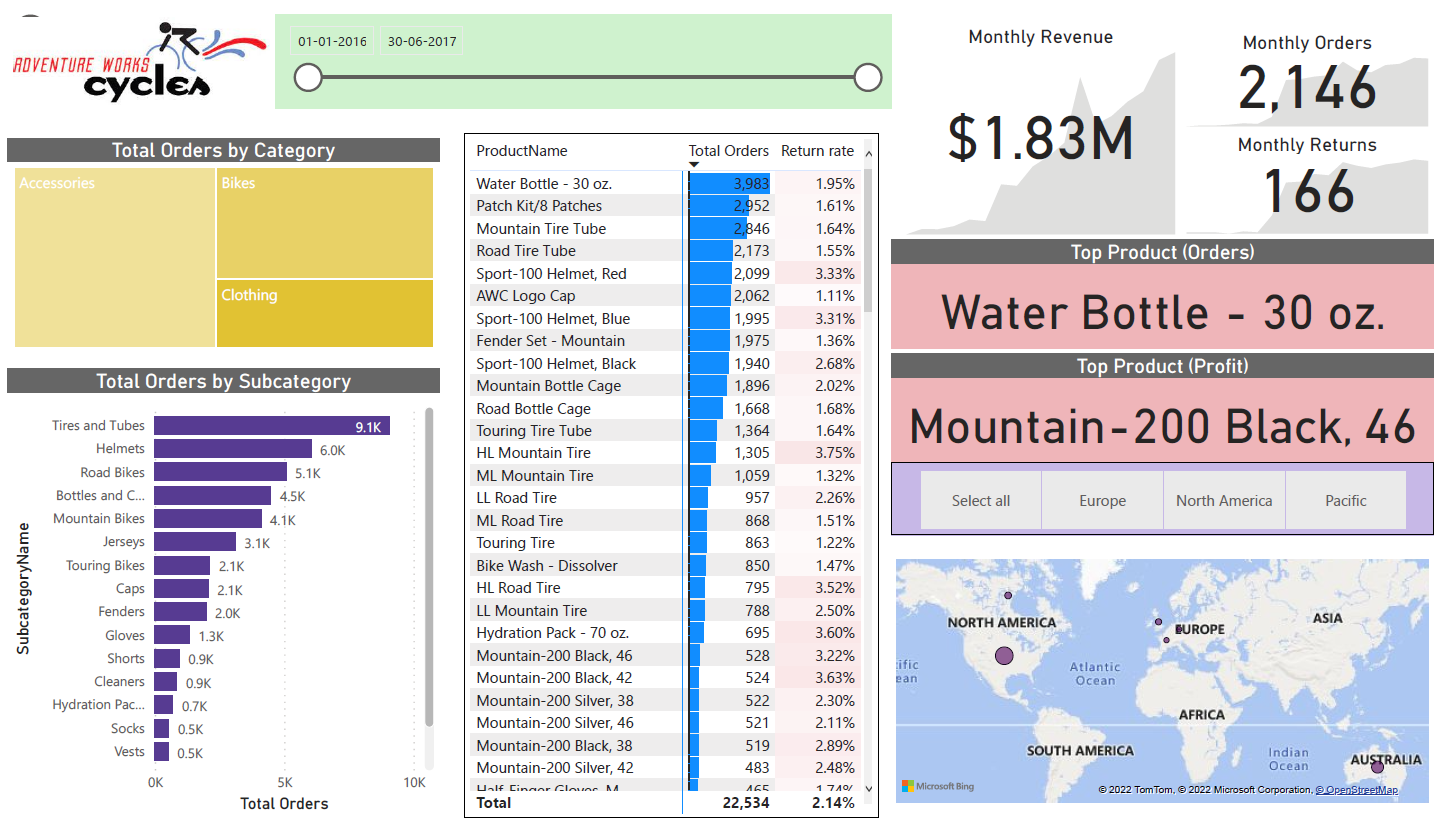

The page's visual inventory and layout, read from the dashboard file:
{"tool":"powerbi","page":{"name":"Exec Summary","canvas":[1280,720],"ordinal":0},"visuals":[{"type":"actionButton","box":[0,0,100,40],"z":0},{"type":"barChart","title":"Total Orders by Subcategory","fields":{"Y":["AW_Sales.Total Orders"],"Category":["AW_Product_Subcategory_Lookup.SubcategoryName"]},"box":[0,320,384,400],"z":1000},{"type":"treemap","title":"Total Orders by Category","fields":{"Group":["AW_Product_Category_Lookup.CategoryName","AW_Product_Subcategory_Lookup.SubcategoryName"],"Values":["AW_Sales.Total Orders"]},"box":[0,114.9,383.8,191.9],"z":2000},{"type":"pivotTable","fields":{"Values":["AW_Sales.Total Orders","AW_Returns.Return rate"],"Rows":["AW_Product_Category_Lookup.CategoryName","AW_Product_Subcategory_Lookup.SubcategoryName","AW_Product_Lookup.ProductName"]},"box":[405.8,110,369.2,610],"z":3000},{"type":"slicer","fields":{"Values":["AW_Calendar_Lookup.Date"]},"box":[238.4,4.9,547.6,84.3],"z":4000},{"type":"kpi","title":"Monthly Revenue","fields":{"Indicator":["AW_Sales.Total Revenue"],"TrendLine":["AW_Calendar_Lookup.Start of Month"]},"box":[794.6,14.7,249.4,190.7],"z":5000},{"type":"kpi","title":"Monthly Orders","fields":{"TrendLine":["AW_Calendar_Lookup.Start of Month"],"Indicator":["AW_Sales.Total Orders"]},"box":[1043.9,19.6,224.9,90.5],"z":6000},{"type":"kpi","title":"Monthly Returns","fields":{"TrendLine":["AW_Calendar_Lookup.Start of Month"],"Indicator":["AW_Returns.Total Returns"]},"box":[1043.9,110,224.9,95.3],"z":7000},{"type":"image","box":[0,0,238.4,94.1],"z":8000},{"type":"card","title":"Top Product (Orders)","fields":{"Values":["Min(AW_Product_Lookup.ProductName)"]},"box":[786,205.4,482.9,96.6],"z":9000},{"type":"card","title":"Top Product (Profit)","fields":{"Values":["Min(AW_Product_Lookup.ProductName)"]},"box":[786,306.8,482.9,96.6],"z":10000},{"type":"map","fields":{"Category":["AW_Territories_Lookup.Country"],"Size":["AW_Sales.Total Orders"]},"box":[786,485.3,482.9,226.1],"z":11000},{"type":"slicer","fields":{"Values":["AW_Territories_Lookup.Continent"]},"box":[786,403.4,482.9,64.8],"z":12000}]}

Visuals, with their boxes in screenshot pixels (x1, y1, x2, y2), scaled from the page's 1280x720 canvas onto the 1438x820 screenshot:
actionButton: {"left": 0, "top": 0, "right": 112, "bottom": 46}
"Total Orders by Subcategory" barChart: {"left": 0, "top": 364, "right": 431, "bottom": 819}
"Total Orders by Category" treemap: {"left": 0, "top": 131, "right": 431, "bottom": 349}
pivotTable - AW_Sales.Total Orders x AW_Returns.Return rate: {"left": 456, "top": 125, "right": 871, "bottom": 819}
slicer - AW_Calendar_Lookup.Date: {"left": 268, "top": 6, "right": 883, "bottom": 102}
"Monthly Revenue" kpi: {"left": 893, "top": 17, "right": 1173, "bottom": 234}
"Monthly Orders" kpi: {"left": 1173, "top": 22, "right": 1425, "bottom": 125}
"Monthly Returns" kpi: {"left": 1173, "top": 125, "right": 1425, "bottom": 234}
image: {"left": 0, "top": 0, "right": 268, "bottom": 107}
"Top Product (Orders)" card: {"left": 883, "top": 234, "right": 1426, "bottom": 344}
"Top Product (Profit)" card: {"left": 883, "top": 349, "right": 1426, "bottom": 459}
map - AW_Territories_Lookup.Country x AW_Sales.Total Orders: {"left": 883, "top": 553, "right": 1426, "bottom": 810}
slicer - AW_Territories_Lookup.Continent: {"left": 883, "top": 459, "right": 1426, "bottom": 533}
